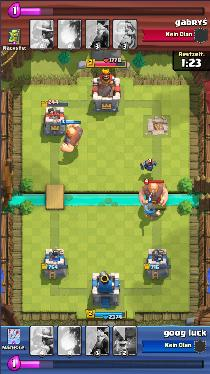ally_giant: (61, 121, 83, 153)
ally_knight: (145, 200, 161, 219)
enemy_giant: (138, 182, 168, 206)
enemy_mini_pekka: (141, 159, 157, 172)
